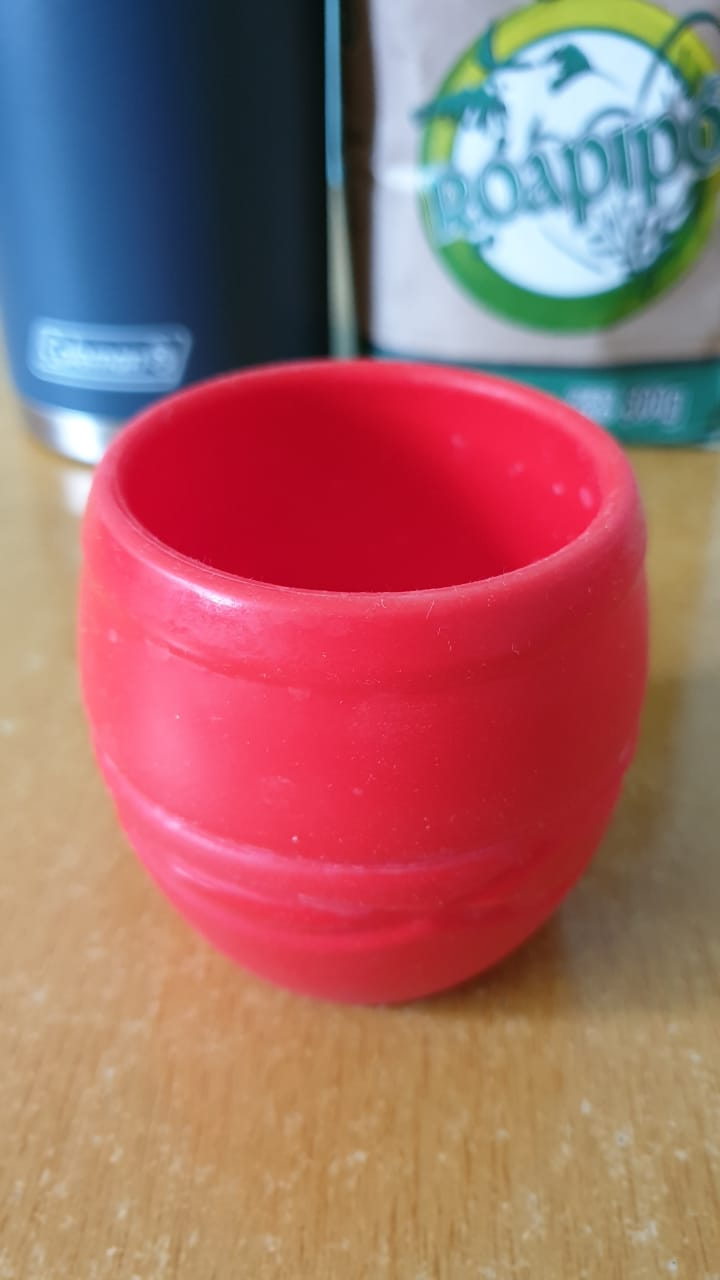mate: (56, 350, 685, 1007)
plastico: (74, 358, 681, 1020)
